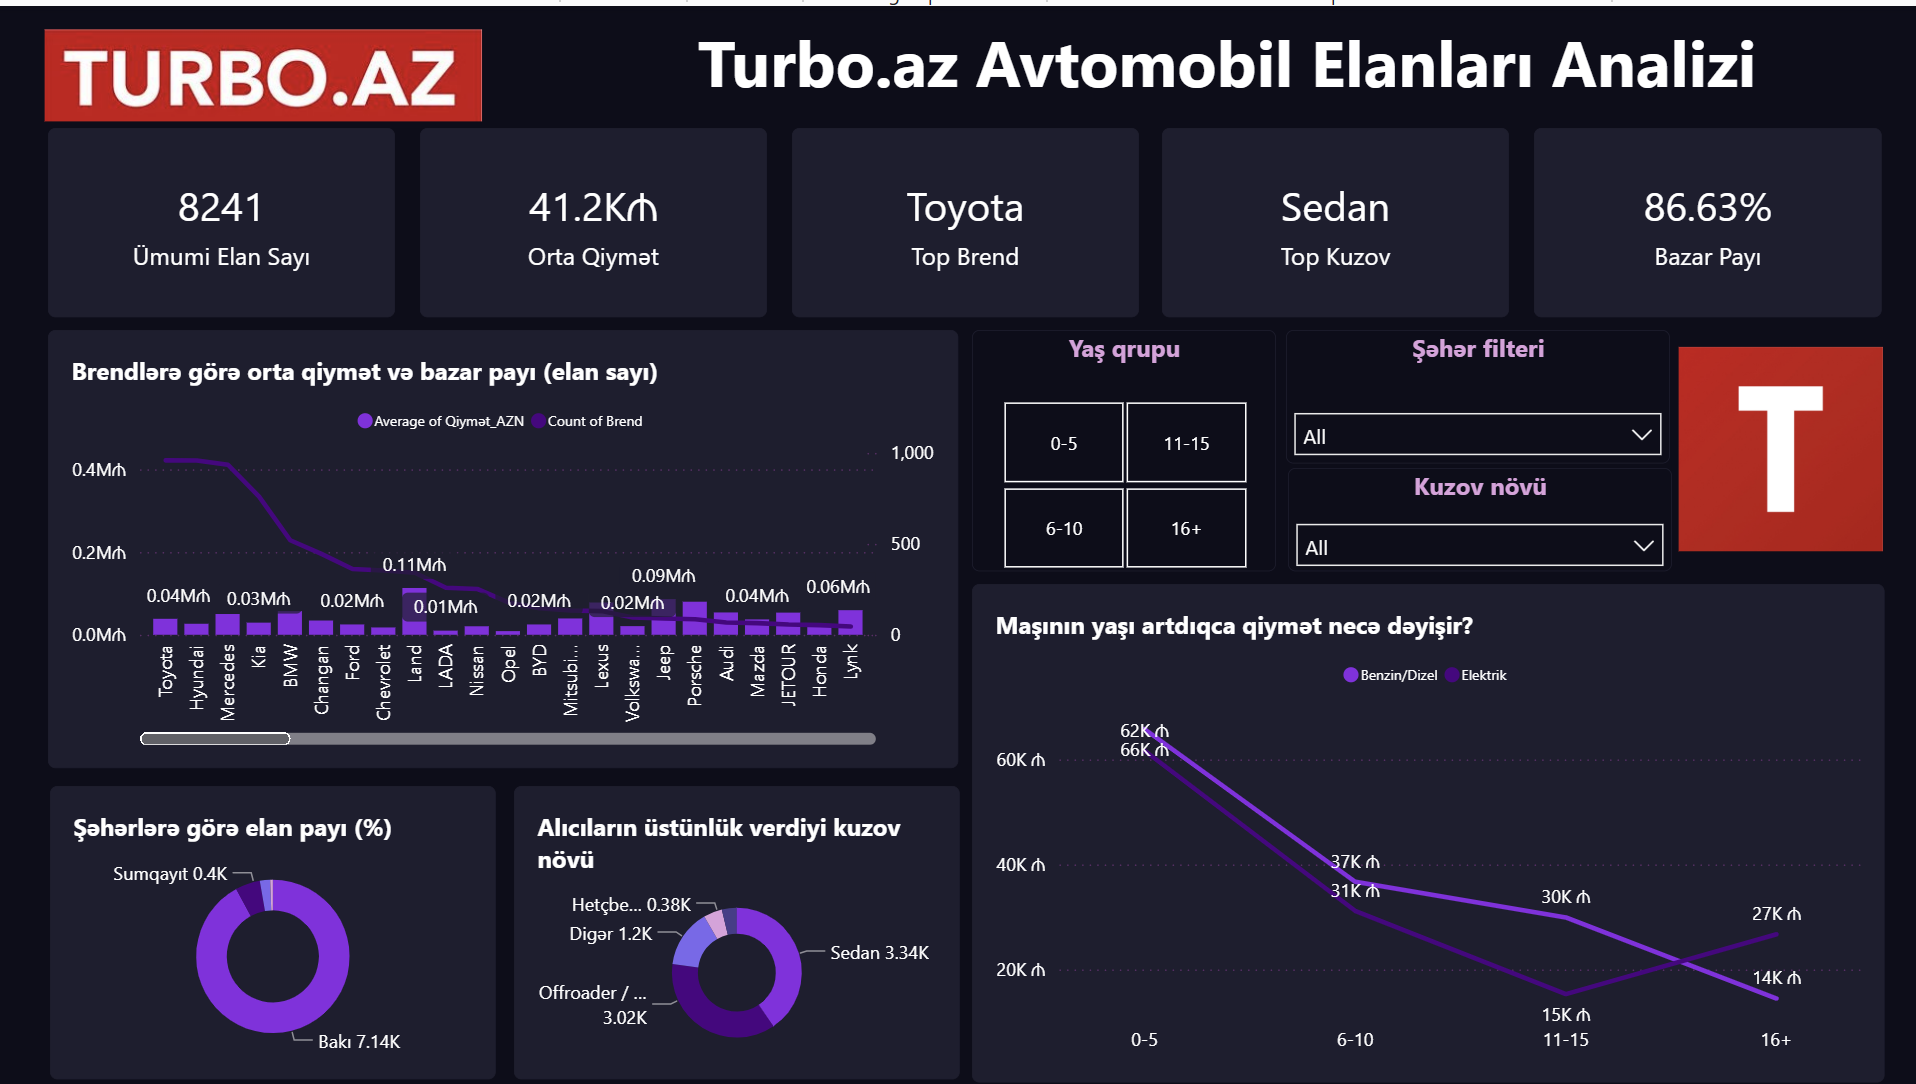

The dashboard page shown, as its layout file describes it:
{"tool":"powerbi","page":{"name":"Page 1","canvas":[1280,720],"ordinal":0},"visuals":[{"type":"card","fields":{"Values":["data csv.Orta Qiymət"]},"box":[283.1,81,230,125.5],"z":0,"group":"g1"},{"type":"lineChart","title":"Maşının yaşı artdıqca qiymət necə dəyişir?","fields":{"Y":["Avg(data csv.Qiymət_AZN)"],"Series":["data csv.Mühərrik Tipi"],"Category":["data csv.Yaş qrupu"]},"box":[650.3,382.9,604.8,330.7],"z":0},{"type":"card","fields":{"Values":["data csv.TopBrend"]},"box":[529.4,81,230,125.5],"z":1000,"group":"g1"},{"type":"lineClusteredColumnComboChart","title":"Brendlərə görə orta qiymət və bazar payı (elan sayı)","fields":{"Category":["data csv.Brend"],"Y":["Avg(data csv.Qiymət_AZN)"],"Y2":["CountNonNull(data csv.Brend)"]},"box":[36.9,214.7,603.3,290.4],"z":1000},{"type":"card","fields":{"Values":["data csv.Top Kuzov"]},"box":[775.6,81,230,125.5],"z":2000,"group":"g1"},{"type":"donutChart","title":"Şəhərlərə görə elan payı (%)","fields":{"Y":["CountNonNull(data csv.Brend)"],"Category":["data csv.Şəhər (groups)"]},"box":[38.2,517.3,295.5,194.4],"z":2000},{"type":"card","fields":{"Values":["data csv.Bazar Payı"]},"box":[1021.9,81,230.6,125.5],"z":3000,"group":"g1"},{"type":"donutChart","title":"Alıcıların üstünlük verdiyi kuzov növü","fields":{"Category":["data csv.Ban növü (groups)"],"Y":["CountNonNull(data csv.Brend)"]},"box":[346,517.3,295.5,194.4],"z":3000},{"type":"textbox","box":[456.8,8.6,722.9,70],"z":4000},{"type":"image","box":[20,0,320,91.7],"z":5000},{"type":"card","fields":{"Values":["data csv.UmumiElan"]},"box":[36.8,81,230,125.5],"z":6000},{"type":"slicer","title":"Şəhər filteri","fields":{"Values":["data csv.Brend"]},"box":[857.5,215,254.3,88.6],"z":7000},{"type":"slicer","title":"Yaş qrupu","fields":{"Values":["data csv.Yaş qrupu"]},"box":[649.7,214.3,201.4,160],"z":8000},{"type":"slicer","title":"Kuzov növü","fields":{"Values":["data csv.Ban növü (groups)"]},"box":[859,305.7,254.3,68.6],"z":9000},{"type":"group","id":"g1","title":"Group 1","box":[283.1,81,969.4,125.5],"z":10000},{"type":"image","box":[1102.5,210,165.7,168.6],"z":11000}]}

Visuals, with their boxes in screenshot pixels (x1, y1, x2, y2), scaled from the page's 1280x720 canvas onto the 1916x1084 screenshot:
card - data csv.Orta Qiymət: 424/122/768/311
"Maşının yaşı artdıqca qiymət necə dəyişir?" lineChart: 973/576/1879/1074
card - data csv.TopBrend: 792/122/1137/311
"Brendlərə görə orta qiymət və bazar payı (elan sayı)" lineClusteredColumnComboChart: 55/323/958/760
card - data csv.Top Kuzov: 1161/122/1505/311
"Şəhərlərə görə elan payı (%)" donutChart: 57/779/500/1072
card - data csv.Bazar Payı: 1530/122/1875/311
"Alıcıların üstünlük verdiyi kuzov növü" donutChart: 518/779/960/1072
textbox: 684/13/1766/118
image: 30/0/509/138
card - data csv.UmumiElan: 55/122/399/311
"Şəhər filteri" slicer: 1284/324/1664/457
"Yaş qrupu" slicer: 973/323/1274/564
"Kuzov növü" slicer: 1286/460/1666/564
"Group 1" group: 424/122/1875/311
image: 1650/316/1898/570
